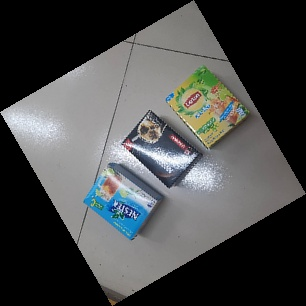CF pho: (121, 110, 204, 190)
LipTon: (165, 64, 250, 151)
Nestea: (82, 162, 165, 240)
